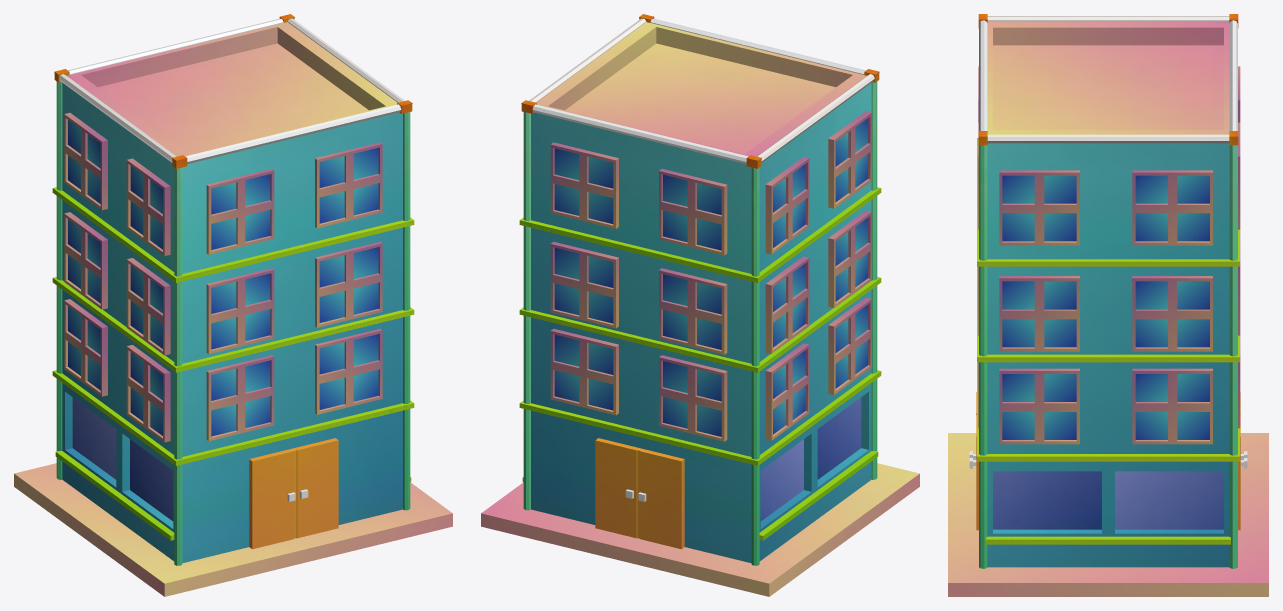
Rendered from House_4.glb.
3 renders of one model, left to right at view 1: azimuth 30°, elevation 25°; view 2: azimuth 150°, elevation 25°; view 3: azimuth 270°, elevation 25°, orthographic. The views are drawn at different scales.
Visible parts, largest first — view 1: House_4; view 2: House_4; view 3: House_4.
Boxes of the visible parts, x1=… form: House_4: x1=14, y1=14, x2=452, y2=596; House_4: x1=481, y1=14, x2=919, y2=596; House_4: x1=948, y1=14, x2=1268, y2=596.
Bounding box in the file's own units: 738 × 1025 × 667.
Materials: 1 (1 with a texture image).
